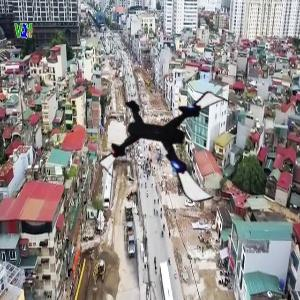drone: (110, 74, 235, 199)
